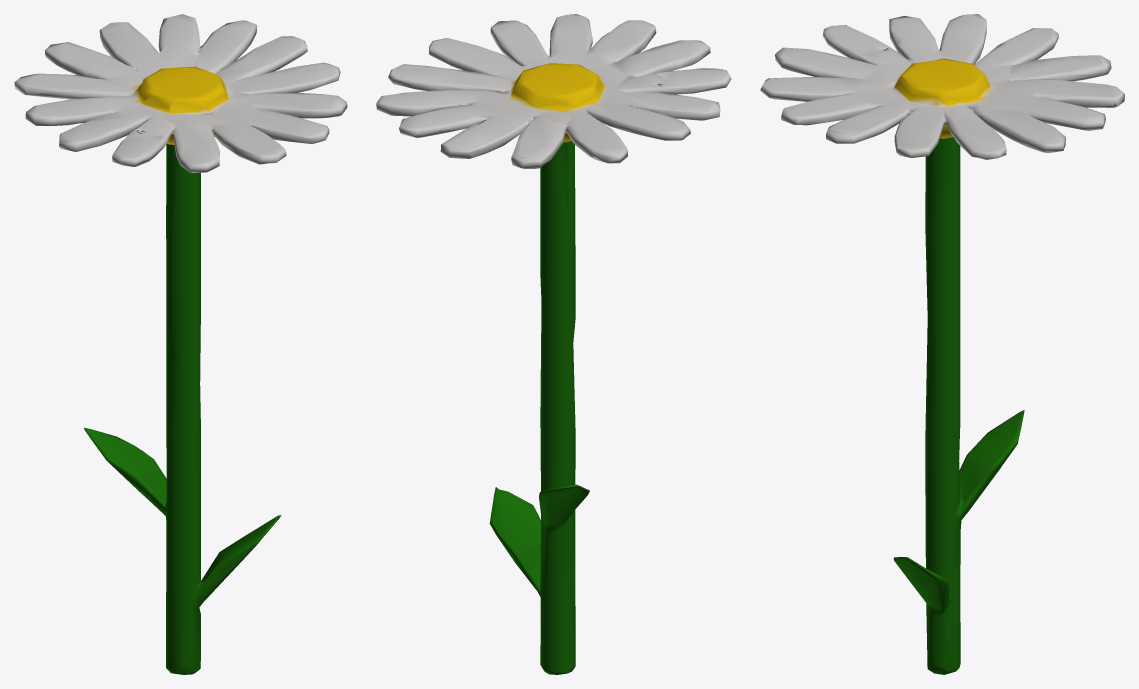
Rendered from gen3d-daisy-lod0.glb.
3 renders of one model, left to right at view 1: azimuth 30°, elevation 25°; view 2: azimuth 150°, elevation 25°; view 3: azimuth 270°, elevation 25°, orthographic.
Parts seen in each view (by area): view 1: part_0; view 2: part_0; view 3: part_0.
Boxes of the visible parts, x1,y1,x2,y2 form: part_0: [14, 14, 347, 674]; part_0: [376, 14, 731, 674]; part_0: [760, 14, 1124, 674].
Bounding box in the file's own units: 0.5105 × 1 × 0.5576.
